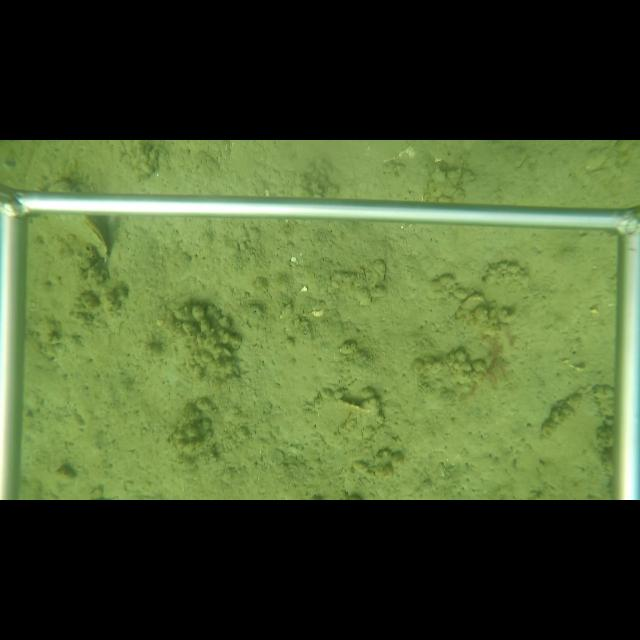Oyster-Closed: (61, 217, 114, 262)
